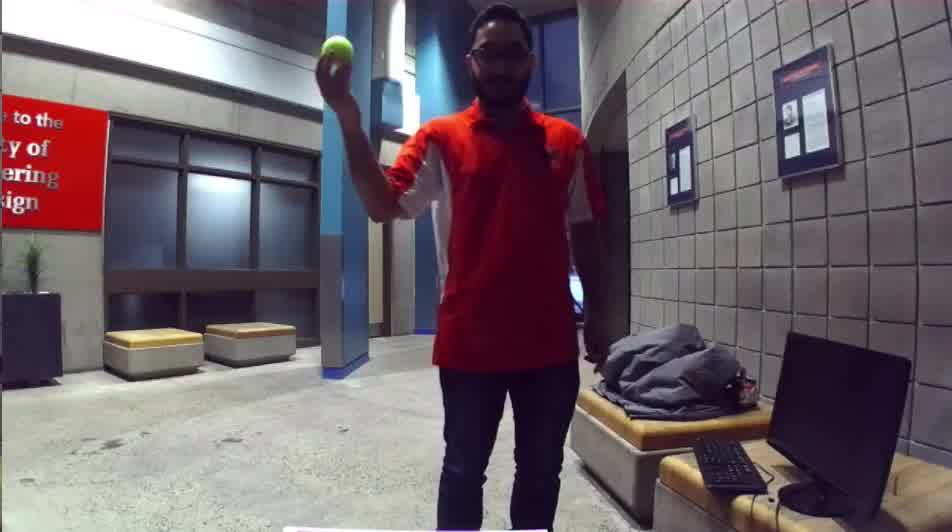tennis_ball: (318, 33, 356, 64)
